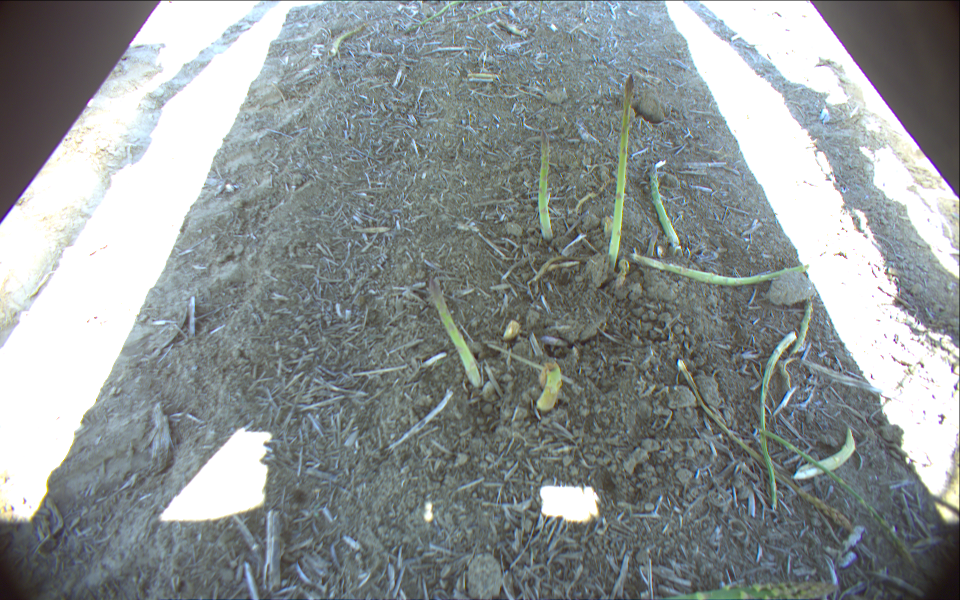aspa: (421, 272, 483, 392), (603, 73, 638, 277), (532, 129, 559, 248), (531, 364, 564, 413)
